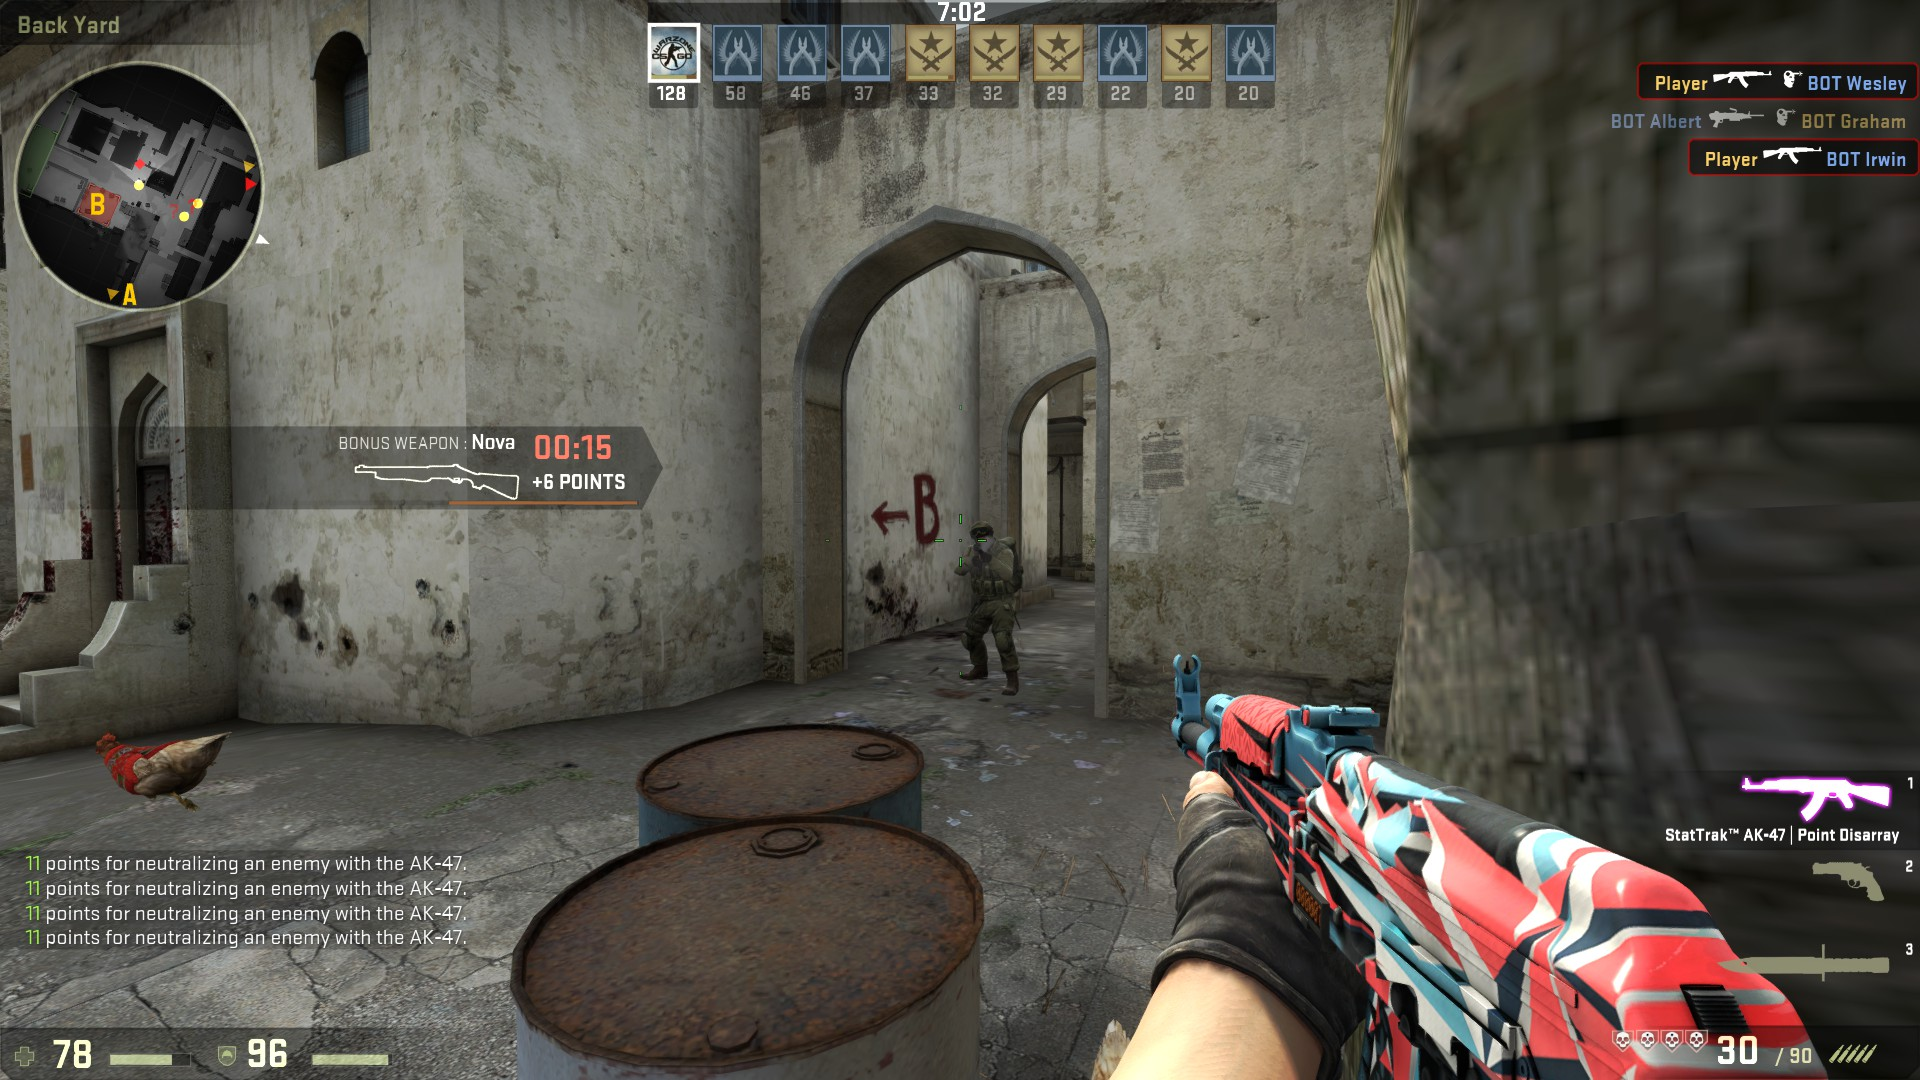c: (955, 517, 1023, 698)
ch: (968, 520, 994, 556)
